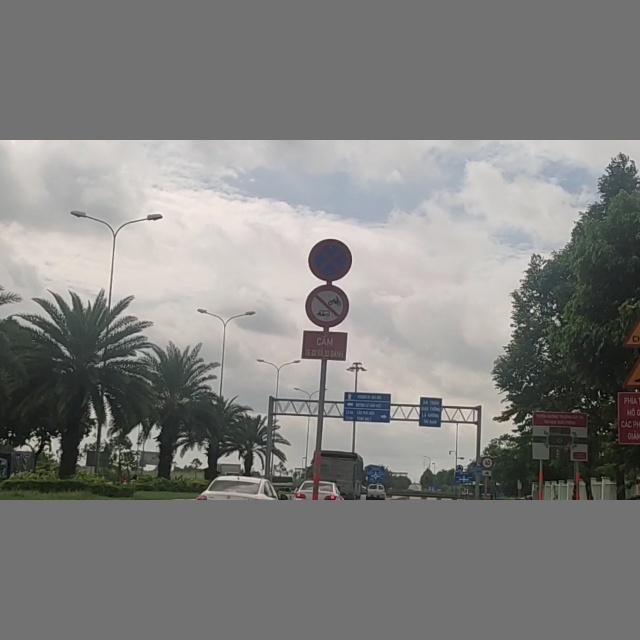P.111: (304, 285, 350, 327)
P.130: (304, 237, 354, 281)
